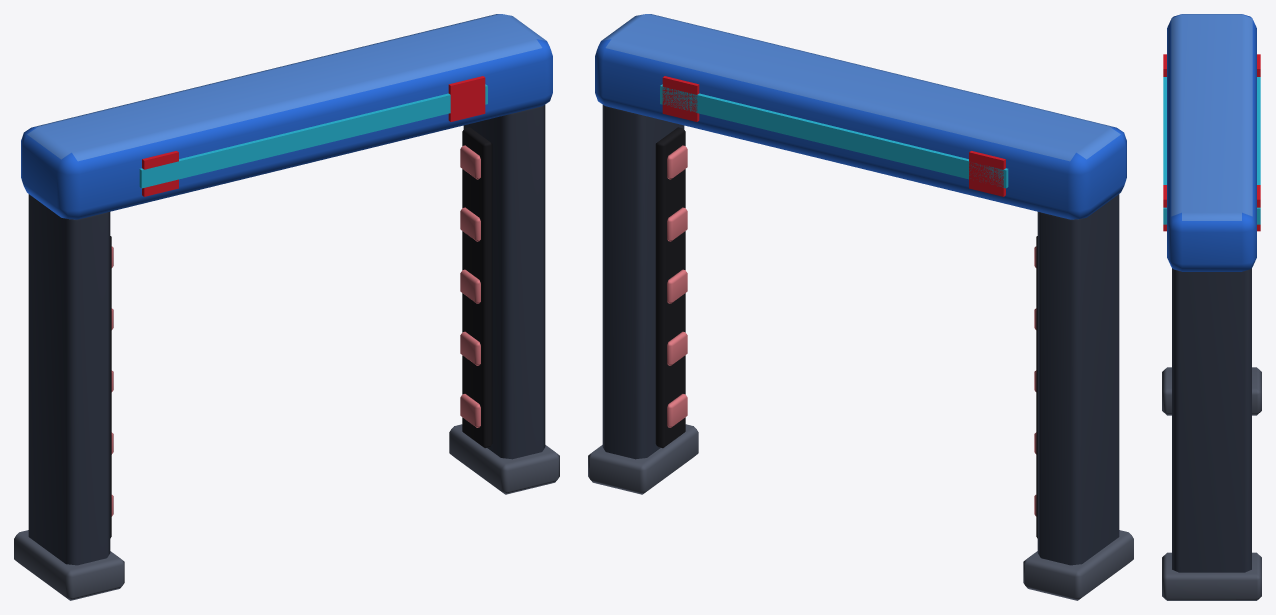
Rendered from mint-gateframe.glb.
3 views of the same model, side by side, from view 1: azimuth 30°, elevation 25°; view 2: azimuth 150°, elevation 25°; view 3: azimuth 270°, elevation 25° (orthographic). The views are drawn at different scales.
Visible parts, largest first — view 1: mint-gateframe; view 2: mint-gateframe; view 3: mint-gateframe.
Part boxes in pixels (x1,y1,x2,y2): mint-gateframe: (14,14,559,600); mint-gateframe: (588,14,1133,600); mint-gateframe: (1162,14,1261,600).
Bounding box in the file's own units: 2 × 1.7 × 0.4.
